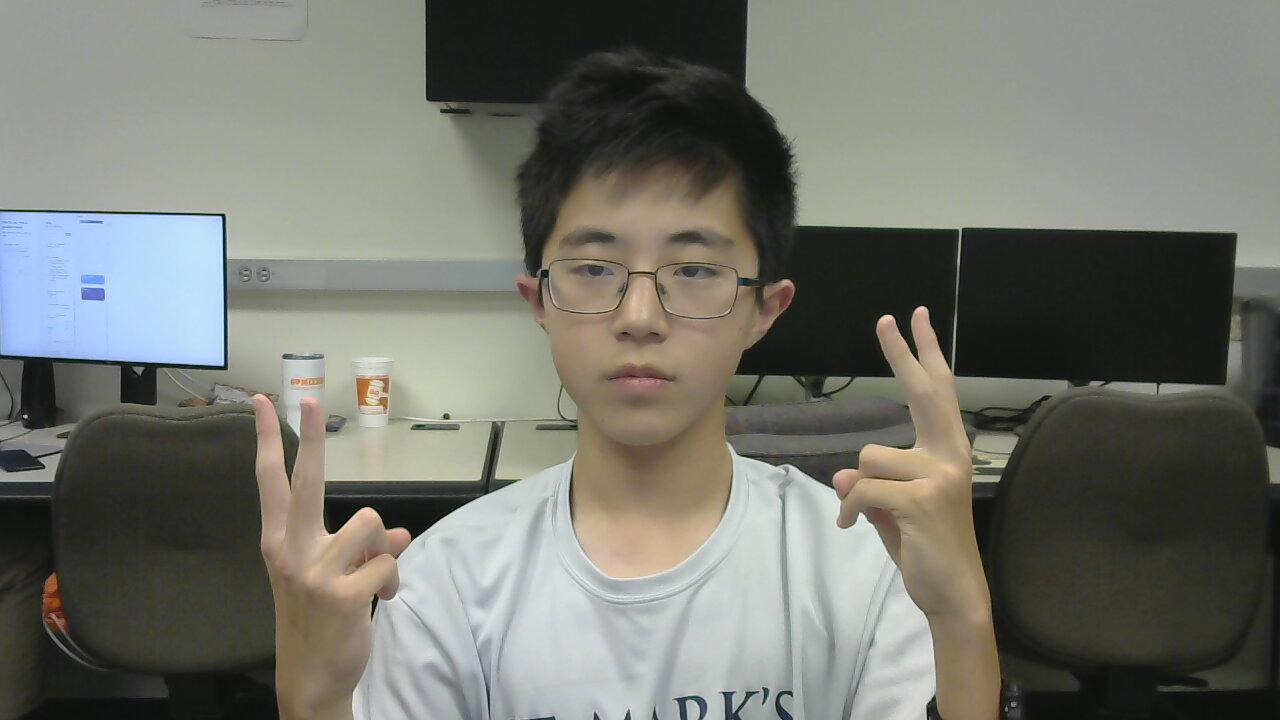peace: (226, 387, 397, 678), (828, 294, 985, 598)
